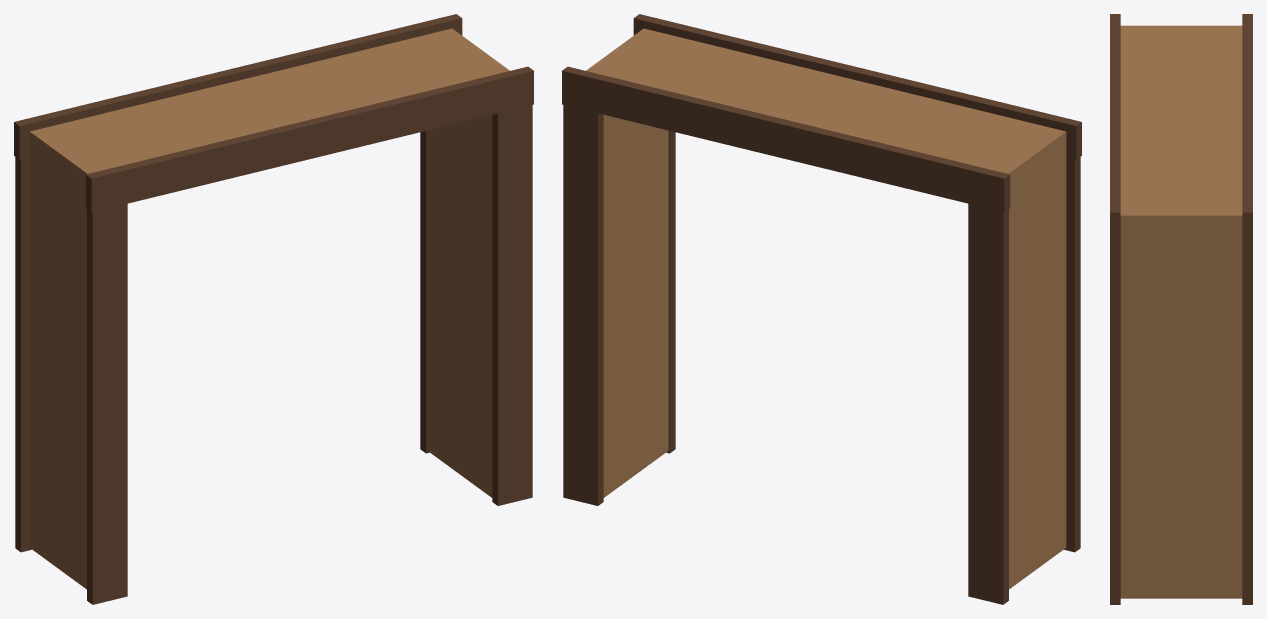
Rendered from marco_puerta.glb.
3 renders of one model, left to right at view 1: azimuth 30°, elevation 25°; view 2: azimuth 150°, elevation 25°; view 3: azimuth 270°, elevation 25°, orthographic. The views are drawn at different scales.
Parts seen in each view (by area): view 1: marco_puerta; view 2: marco_puerta; view 3: marco_puerta.
Boxes of the visible parts, x1,y1,x2,y2 form: marco_puerta: [14, 14, 533, 604]; marco_puerta: [562, 14, 1081, 604]; marco_puerta: [1110, 14, 1252, 604].
Size of the model in its own units: 3.56 by 3.28 by 1.08.
